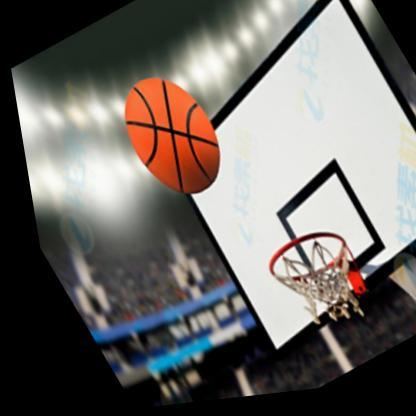basketball: (98, 61, 236, 216)
rim: (249, 221, 374, 346)
